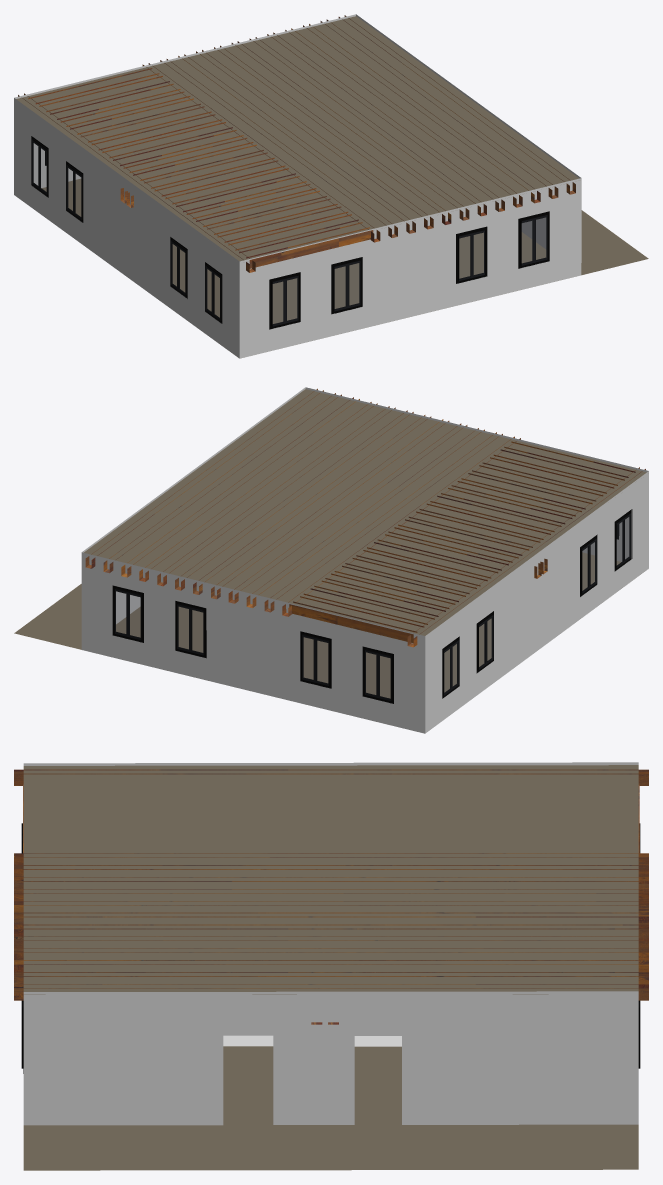
The model's file is buergerstube2020.fbx.
3 renders of one model, top to bottom at view 1: azimuth 30°, elevation 25°; view 2: azimuth 150°, elevation 25°; view 3: azimuth 270°, elevation 25°, orthographic. The views are drawn at different scales.
Visible parts, largest first — view 1: buergerstube_floor.001, bürgerstube_walls.001, Cube.002, buergerstube_floor, buergerstube_window.005, buergerstube_window.006, buergerstube_window.008, buergerstube_window.007, buergerstube_window.003, buergerstube_window.004, buergerstube_window.001, buergerstube_window.002 (+8 smaller); view 2: buergerstube_floor.001, bürgerstube_walls.001, Cube.002, buergerstube_floor, buergerstube_window.021, buergerstube_window.024, buergerstube_window.023, buergerstube_window.022, buergerstube_window.011, buergerstube_window.009, buergerstube_window.012, buergerstube_window.010 (+8 smaller); view 3: buergerstube_floor.001, bürgerstube_walls.001, buergerstube_floor, Cube.002.
Part boxes in pixels (<box>): buergerstube_floor.001: <box>16,16,578,261</box>; bürgerstube_walls.001: <box>14,14,581,358</box>; Cube.002: <box>18,15,575,272</box>; buergerstube_floor: <box>42,178,648,323</box>; buergerstube_window.005: <box>459,231,484,280</box>; buergerstube_window.006: <box>522,215,546,265</box>; buergerstube_window.008: <box>273,276,297,325</box>; buergerstube_window.007: <box>335,261,359,310</box>; buergerstube_window.003: <box>331,257,362,314</box>; buergerstube_window.004: <box>269,272,300,329</box>; buergerstube_window.001: <box>518,211,549,268</box>; buergerstube_window.002: <box>456,226,487,283</box>; buergerstube_floor.001: <box>84,389,646,635</box>; bürgerstube_walls.001: <box>81,387,648,733</box>; Cube.002: <box>85,388,645,647</box>; buergerstube_floor: <box>14,552,620,698</box>; buergerstube_window.021: <box>365,650,389,700</box>; buergerstube_window.024: <box>115,589,139,639</box>; buergerstube_window.023: <box>178,605,202,654</box>; buergerstube_window.022: <box>303,635,327,685</box>; buergerstube_window.011: <box>300,631,331,688</box>; buergerstube_window.009: <box>112,585,143,642</box>; buergerstube_window.012: <box>362,646,393,703</box>; buergerstube_window.010: <box>175,601,206,658</box>; buergerstube_floor.001: <box>23,765,638,994</box>; bürgerstube_walls.001: <box>23,762,638,1125</box>; buergerstube_floor: <box>23,1046,638,1170</box>; Cube.002: <box>14,769,648,1000</box>.
Bounding box in the file's own units: 1225 × 278 × 1189.
